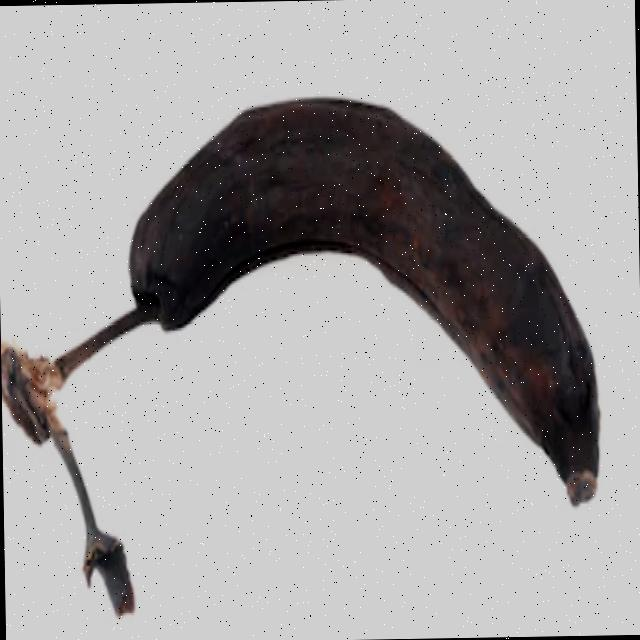Rotten: (43, 82, 619, 540)
